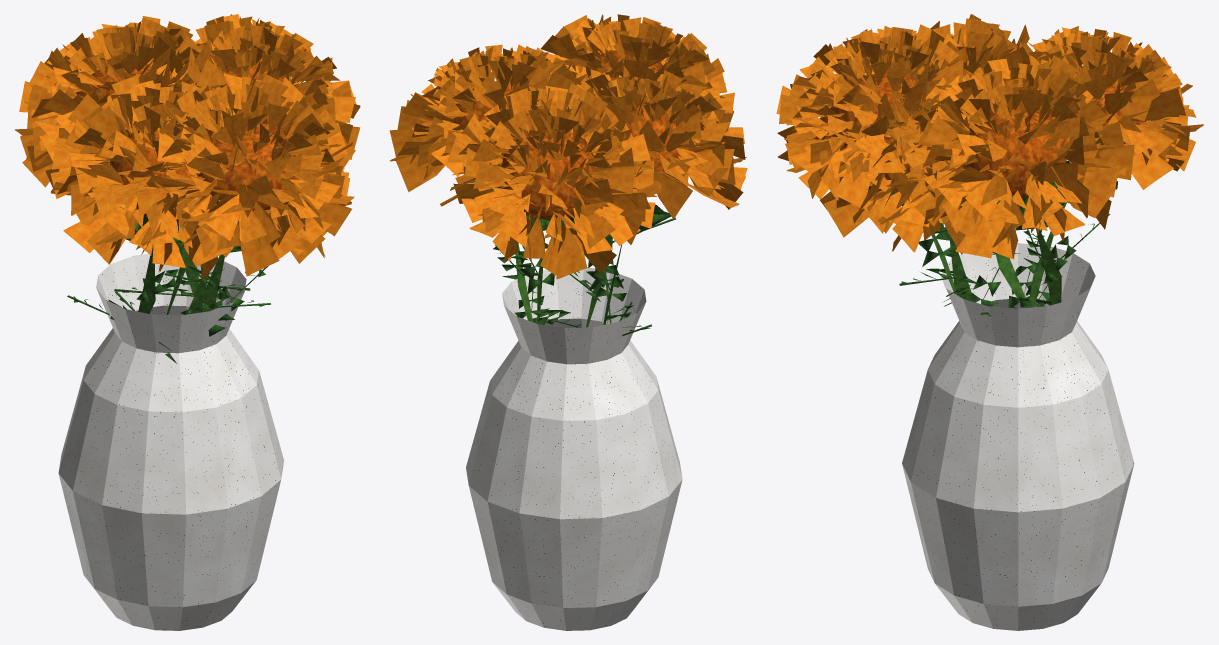
Rendered from florero.obj.
3 renders of one model, left to right at view 1: azimuth 30°, elevation 25°; view 2: azimuth 150°, elevation 25°; view 3: azimuth 270°, elevation 25°, orthographic. The views are drawn at different scales.
Parts seen in each view (by area): view 1: Florero, Flor_Cempasuchil.005, Flor_Cempasuchil.003, Flor_Cempasuchil.001, Flor_Cempasuchil.002, Flor_Cempasuchil.004; view 2: Florero, Flor_Cempasuchil.001, Flor_Cempasuchil.003, Flor_Cempasuchil.002, Flor_Cempasuchil.005, Flor_Cempasuchil.004; view 3: Florero, Flor_Cempasuchil.002, Flor_Cempasuchil.005, Flor_Cempasuchil.001, Flor_Cempasuchil.004, Flor_Cempasuchil.003.
Part boxes in pixels (x1=…): Florero: x1=58, y1=253, x2=284, y2=630; Flor_Cempasuchil.005: x1=131, y1=73, x2=354, y2=336; Flor_Cempasuchil.003: x1=45, y1=75, x2=240, y2=319; Flor_Cempasuchil.001: x1=15, y1=16, x2=222, y2=311; Flor_Cempasuchil.002: x1=149, y1=14, x2=360, y2=314; Flor_Cempasuchil.004: x1=115, y1=82, x2=349, y2=363; Florero: x1=466, y1=267, x2=682, y2=630; Flor_Cempasuchil.001: x1=440, y1=83, x2=656, y2=327; Flor_Cempasuchil.003: x1=571, y1=66, x2=747, y2=336; Flor_Cempasuchil.002: x1=389, y1=44, x2=593, y2=331; Flor_Cempasuchil.005: x1=540, y1=14, x2=734, y2=327; Flor_Cempasuchil.004: x1=494, y1=53, x2=695, y2=323; Florero: x1=902, y1=243, x2=1134, y2=630; Flor_Cempasuchil.002: x1=903, y1=50, x2=1134, y2=316; Flor_Cempasuchil.005: x1=776, y1=24, x2=995, y2=306; Flor_Cempasuchil.001: x1=982, y1=26, x2=1203, y2=308; Flor_Cempasuchil.004: x1=820, y1=60, x2=1000, y2=306; Flor_Cempasuchil.003: x1=870, y1=14, x2=1044, y2=308.
Size of the model in its own units: 0.2833 by 0.4888 by 0.3315.
Materials: 5 (5 with a texture image).
